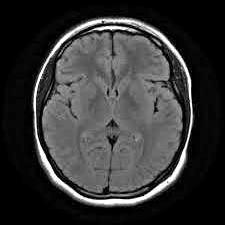Normal_Brain: (2, 4, 225, 225)
